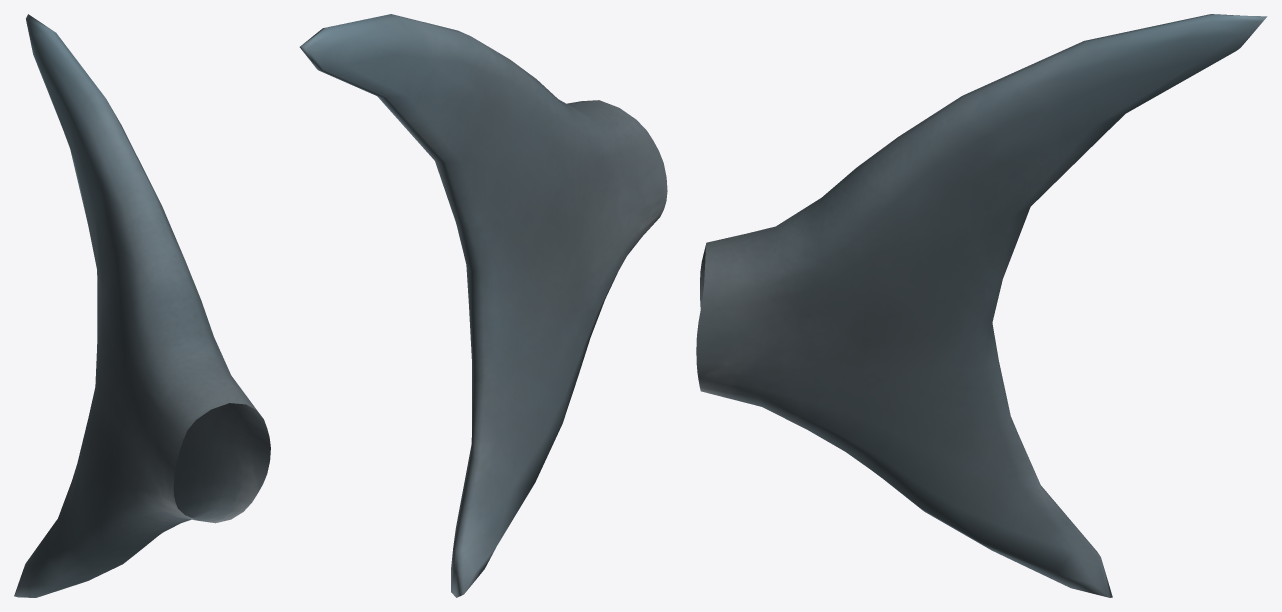
The model's file is colaTiburon.obj.
3 renders of one model, left to right at view 1: azimuth 30°, elevation 25°; view 2: azimuth 150°, elevation 25°; view 3: azimuth 270°, elevation 25°, orthographic. The views are drawn at different scales.
Parts seen in each view (by area): view 1: colaTiburon; view 2: colaTiburon; view 3: colaTiburon.
Boxes of the visible parts, <box> form: colaTiburon: <box>14,14,270,597</box>; colaTiburon: <box>299,14,667,597</box>; colaTiburon: <box>696,14,1267,597</box>.
Bounding box in the file's own units: 0.2332 × 1.19 × 0.9877.
1 material, 1 textured.
